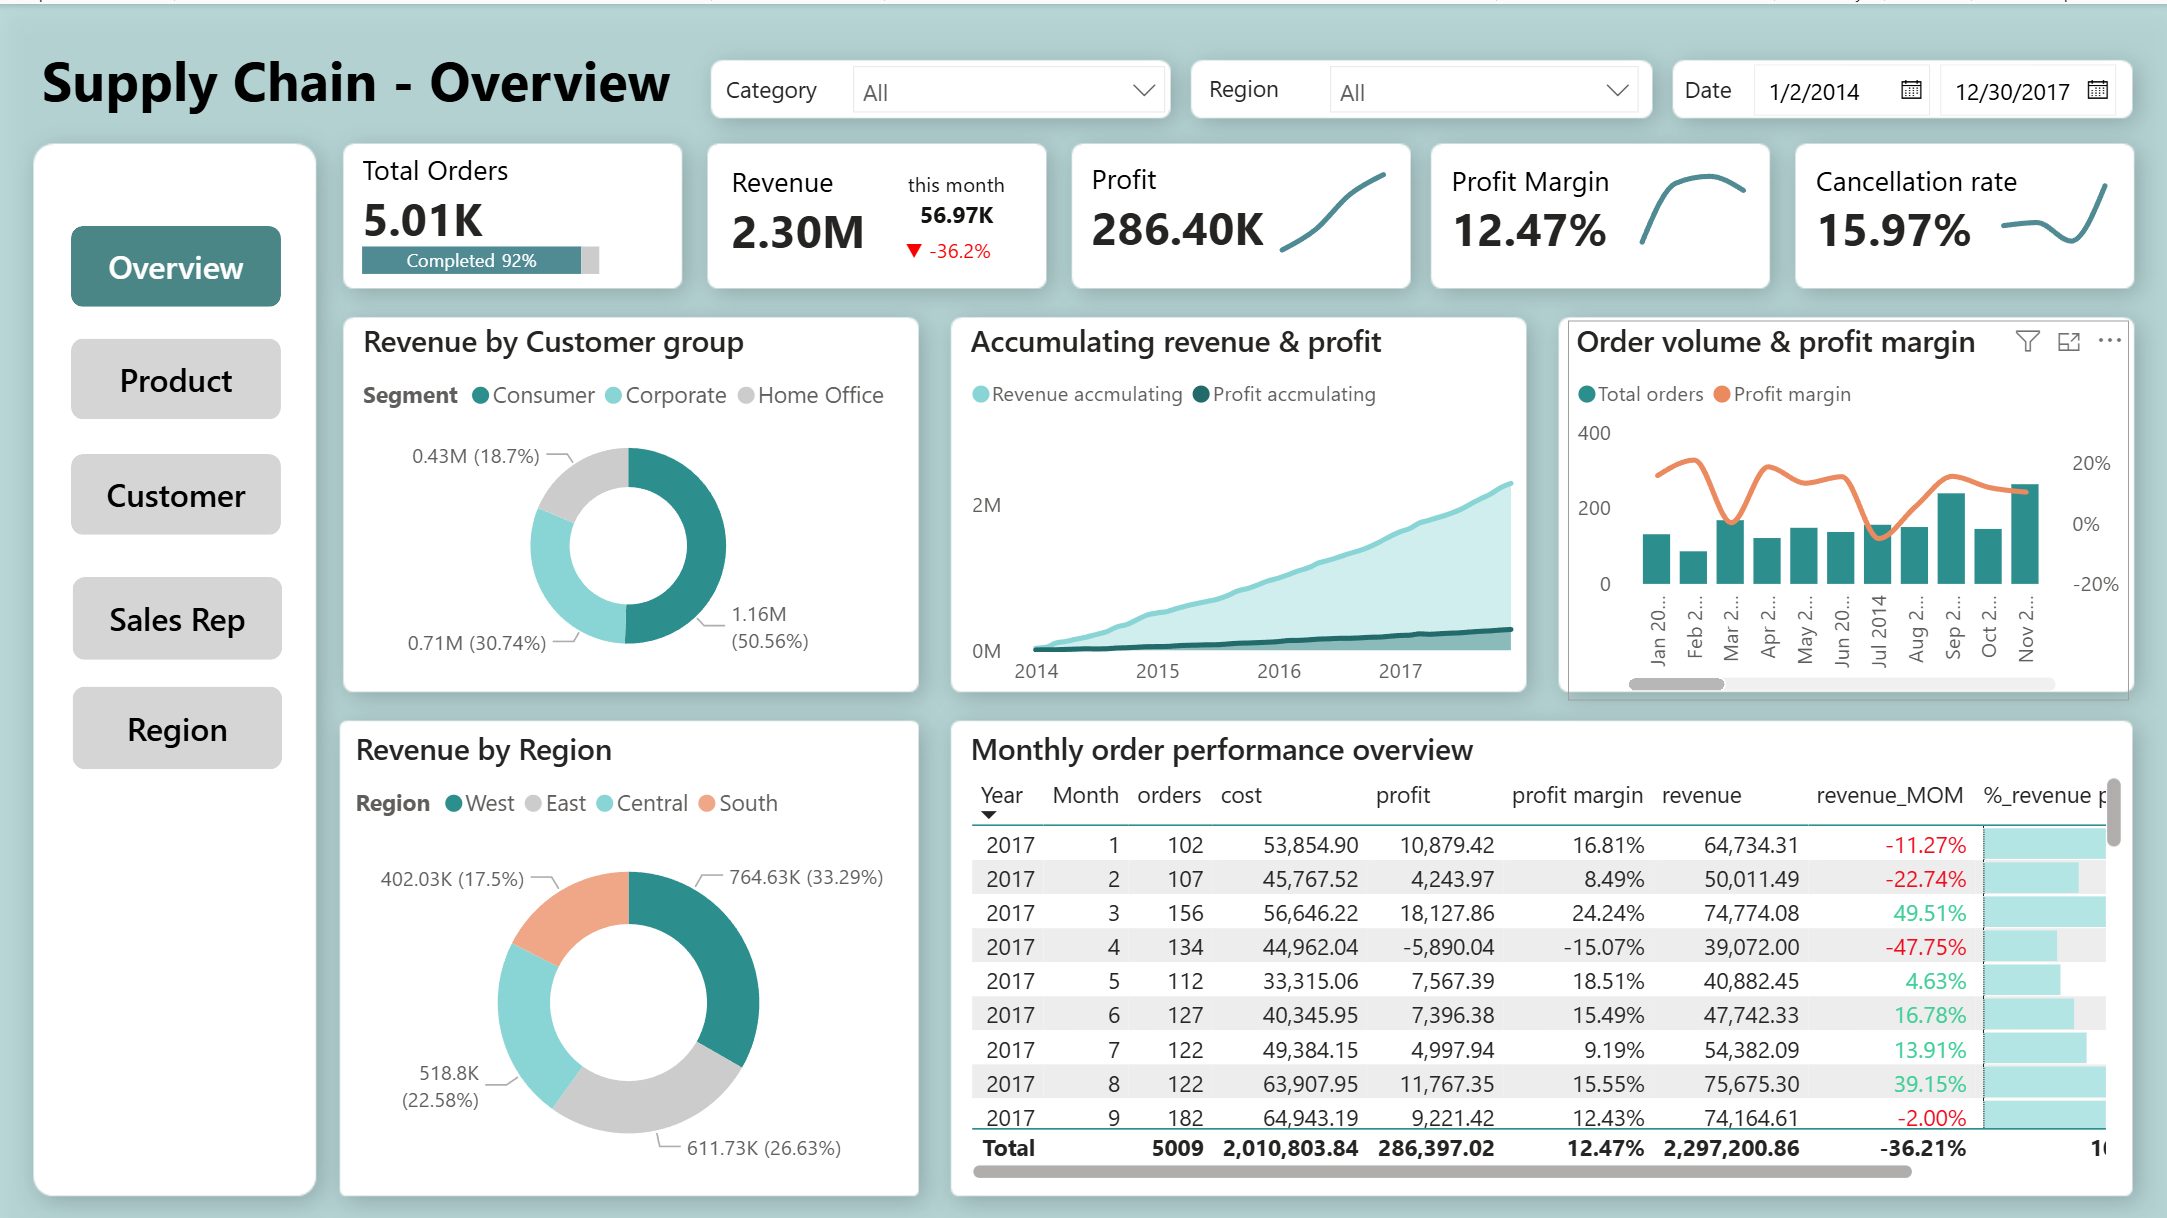

This screenshot's page, from the dashboard's own definition file:
{"tool":"powerbi","page":{"name":"Overview","canvas":[1280,720],"ordinal":0},"visuals":[{"type":"areaChart","title":"Accumulating revenue & profit","fields":{"Y":["*Measure.M_revenue_accmulating","*Measure.M_profit_accmulating"],"Category":["dim_calendar.Start of Month"]},"box":[567.5,186.2,340.1,223.4],"z":0},{"type":"lineStackedColumnComboChart","title":"Order volume & profit margin","fields":{"Y":["CountNonNull(fact_retail_order.Order ID)"],"Y2":["*Measure.M_profit margin"],"Category":["dim_calendar.Start of Month"]},"box":[923.8,186.2,329.1,222.4],"z":1000},{"type":"donutChart","title":"Revenue by Customer group","fields":{"Category":["dim_customer segment.Segment"],"Y":["*Measure.M_revenue"]},"box":[210.3,186.2,321,211.3],"z":2000},{"type":"donutChart","title":"Revenue by Region","fields":{"Category":["dim_address.Region"],"Y":["*Measure.M_revenue"]},"box":[206.3,425.7,330.1,268.7],"z":3000},{"type":"tableEx","title":"Monthly order performance overview","fields":{"Values":["dim_calendar.Year","dim_calendar.Month","fact_retail_order.Order ID","*Measure.M_cost","*Measure.M_profit","*Measure.M_profit margin","*Measure.M_revenue","*Measure.M_revenue_MOM_card_kpi","*Measure.M_%_revenue_year","*Measure.M_revenue_YTD"]},"box":[567.5,425.7,686.3,269.7],"z":4000},{"type":"slicer","fields":{"Values":["dim_calendar.Date"]},"box":[1019.4,25.2,238.5,46.3],"z":5000},{"type":"slicer","fields":{"Values":["dim_category.Category"]},"box":[493.1,26.2,203.3,46.3],"z":6000},{"type":"slicer","fields":{"Values":["dim_address.Region"]},"box":[773.8,26.2,201.3,53.3],"z":7000},{"type":"textbox","box":[987.2,35.2,65.4,38.2],"z":8000},{"type":"textbox","box":[423.6,35.2,78.5,33.2],"z":9000},{"type":"textbox","box":[707.4,34.2,66.4,38.2],"z":10000},{"type":"textbox","box":[21.9,16.7,408.6,63.6],"z":11000},{"type":"actionButton","box":[44.3,130.7,123.4,47.6],"z":13000},{"type":"actionButton","box":[44.3,196.8,123.4,47.6],"z":14000},{"type":"actionButton","box":[44.3,264.7,123.4,47.6],"z":15000},{"type":"actionButton","box":[44.5,336.6,123.2,48.7],"z":16000},{"type":"cardVisual","fields":{"Data":["Count(fact_retail_order.Order ID)"]},"box":[198.6,69.1,137.9,79.5],"z":17000},{"type":"cardVisual","fields":{"Data":["*Measure.M_cancellation rate"]},"box":[1051.9,72.1,157,97.6],"z":18000},{"type":"cardVisual","fields":{"Data":["*Measure.M_profit margin"]},"box":[837.6,72.1,137.9,97.6],"z":19000},{"type":"cardVisual","fields":{"Data":["*Measure.M_profit"]},"box":[626.9,71.4,137.9,97.6],"z":20000},{"type":"cardVisual","fields":{"Data":["*Measure.M_revenue"]},"box":[414.6,73.5,137.9,97.6],"z":21000},{"type":"hundredPercentStackedBarChart","fields":{"Y":["CountNonNull(fact_retail_order.Order ID)"],"Series":["dim_return.Returned"]},"box":[209.6,107.3,149.9,78.5],"z":22000},{"type":"lineChart","fields":{"Category":["dim_calendar.Date.Variation.Date Hierarchy.Year","dim_calendar.Date.Variation.Date Hierarchy.Month"],"Y":["*Measure.M_profit"]},"box":[740,79.2,89.6,80.5],"z":23000},{"type":"lineChart","fields":{"Category":["dim_calendar.Date.Variation.Date Hierarchy.Year","dim_calendar.Date.Variation.Date Hierarchy.Month"],"Y":["*Measure.M_profit margin"]},"box":[951.3,68.1,89.6,80.5],"z":24000},{"type":"lineChart","fields":{"Category":["dim_calendar.Date.Variation.Date Hierarchy.Year","dim_calendar.Date.Variation.Date Hierarchy.Month"],"Y":["*Measure.M_cancellation rate"]},"box":[1163.6,79.2,89.6,80.5],"z":25000},{"type":"cardVisual","fields":{"Data":["*Measure.M_revenue_current"]},"box":[517.2,80.5,94.6,61.4],"z":26000},{"type":"cardVisual","fields":{"Data":["*Measure.M_icon_r_mom"]},"box":[517.2,118.7,86.5,42.3],"z":27000},{"type":"actionButton","box":[44.5,400.8,123.2,48.7],"z":28000}]}

Visuals, with their boxes in screenshot pixels (x1, y1, x2, y2), scaled from the page's 1280x720 canvas onto the 2167x1218 screenshot:
"Accumulating revenue & profit" areaChart: rect(961, 315, 1537, 693)
"Order volume & profit margin" lineStackedColumnComboChart: rect(1564, 315, 2121, 691)
"Revenue by Customer group" donutChart: rect(356, 315, 899, 672)
"Revenue by Region" donutChart: rect(349, 720, 908, 1175)
"Monthly order performance overview" tableEx: rect(961, 720, 2123, 1176)
slicer - dim_calendar.Date: rect(1726, 43, 2130, 121)
slicer - dim_category.Category: rect(835, 44, 1179, 123)
slicer - dim_address.Region: rect(1310, 44, 1651, 134)
textbox: rect(1671, 60, 1782, 124)
textbox: rect(717, 60, 850, 116)
textbox: rect(1198, 58, 1310, 122)
textbox: rect(37, 28, 729, 136)
actionButton: rect(75, 221, 284, 302)
actionButton: rect(75, 333, 284, 413)
actionButton: rect(75, 448, 284, 528)
actionButton: rect(75, 569, 284, 652)
cardVisual - Count(fact_retail_order.Order ID): rect(336, 117, 570, 251)
cardVisual - *Measure.M_cancellation rate: rect(1781, 122, 2047, 287)
cardVisual - *Measure.M_profit margin: rect(1418, 122, 1651, 287)
cardVisual - *Measure.M_profit: rect(1061, 121, 1295, 286)
cardVisual - *Measure.M_revenue: rect(702, 124, 935, 289)
hundredPercentStackedBarChart - CountNonNull(fact_retail_order.Order ID) x dim_return.Returned: rect(355, 182, 609, 314)
lineChart - dim_calendar.Date.Variation.Date Hierarchy.Year x dim_calendar.Date.Variation.Date Hierarchy.Month: rect(1253, 134, 1404, 270)
lineChart - dim_calendar.Date.Variation.Date Hierarchy.Year x dim_calendar.Date.Variation.Date Hierarchy.Month: rect(1611, 115, 1762, 251)
lineChart - dim_calendar.Date.Variation.Date Hierarchy.Year x dim_calendar.Date.Variation.Date Hierarchy.Month: rect(1970, 134, 2122, 270)
cardVisual - *Measure.M_revenue_current: rect(876, 136, 1036, 240)
cardVisual - *Measure.M_icon_r_mom: rect(876, 201, 1022, 272)
actionButton: rect(75, 678, 284, 760)
